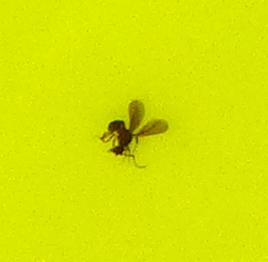Hymenoptera: (100, 100, 168, 162)
